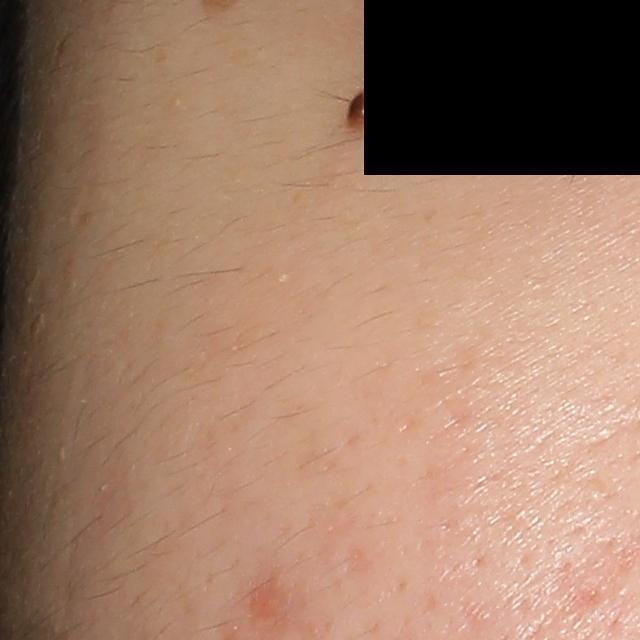nevus: (346, 82, 383, 130)
